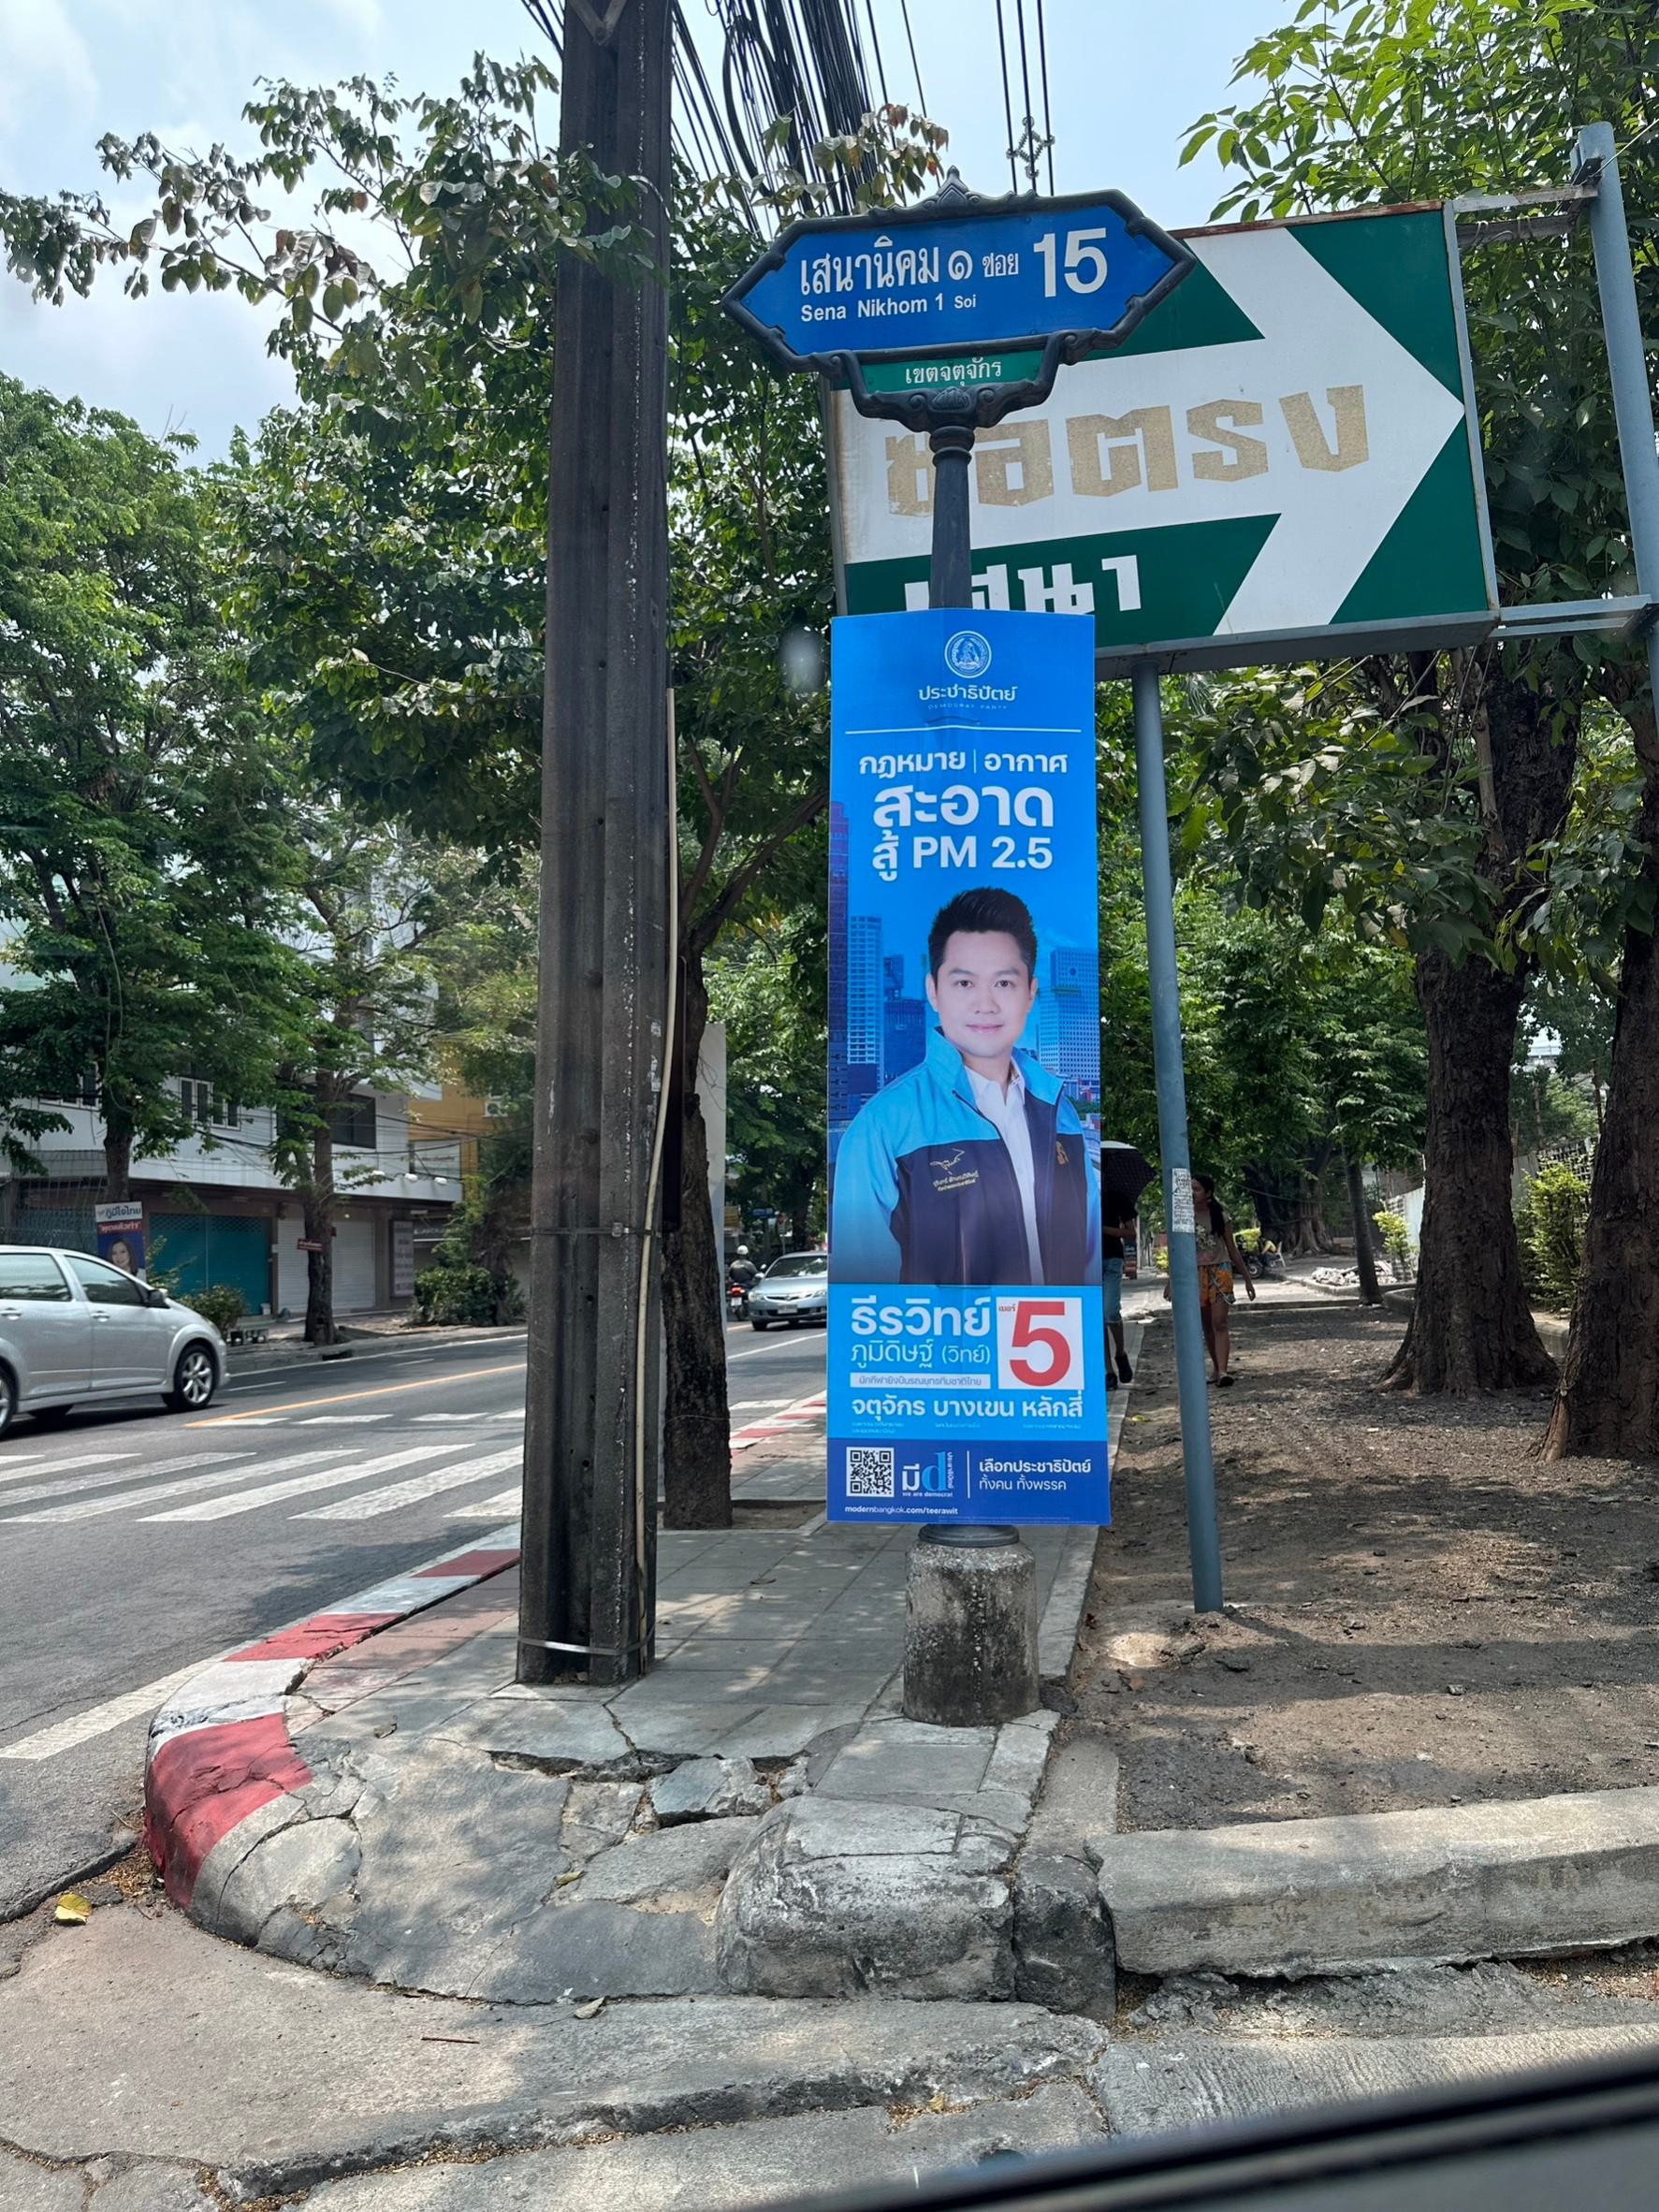Banner: (833, 596, 1100, 1514)
